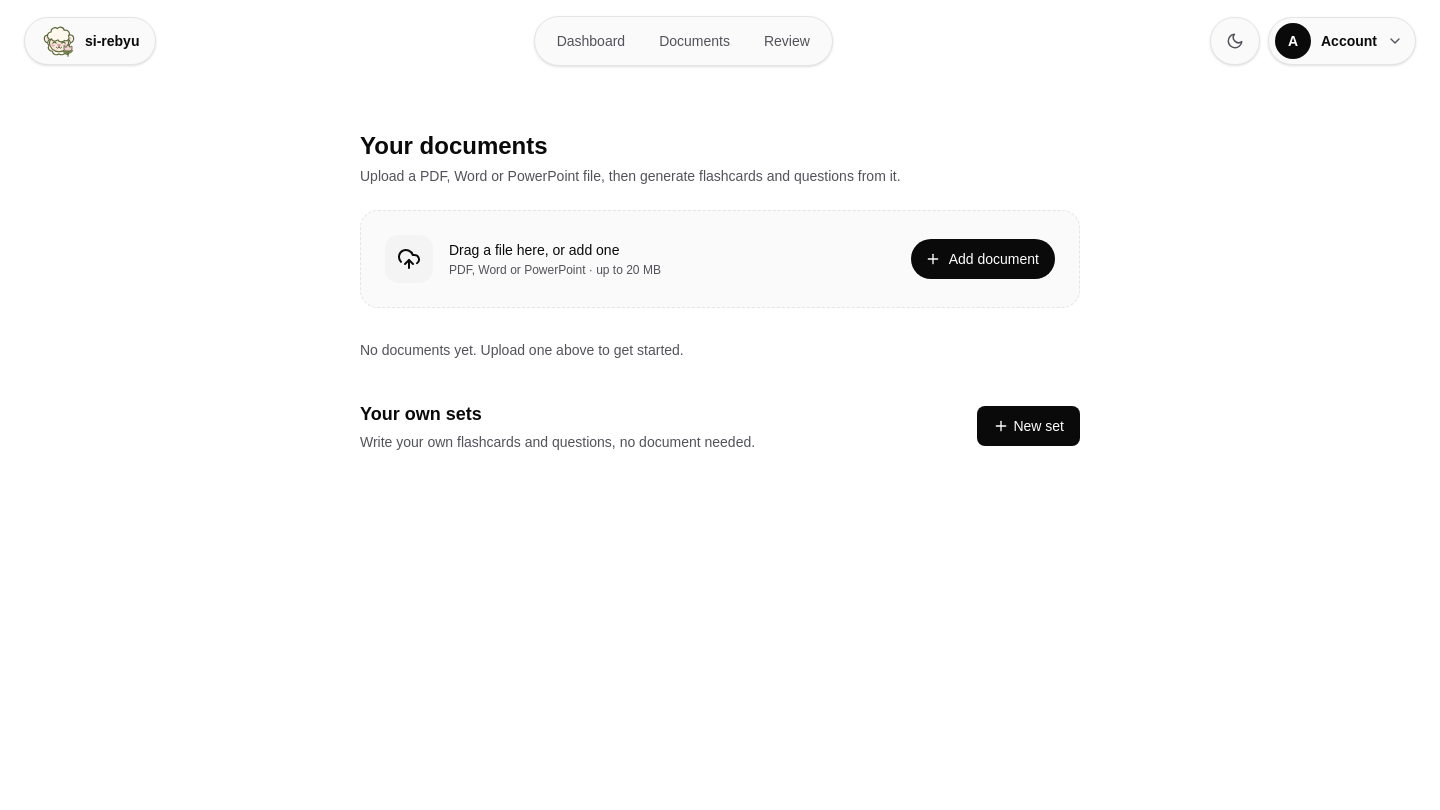
Test case: Import from Google Drive › shows the error when Drive fails
This screenshot has width=1440, height=810.
What coordinates should you click on to do the following:
click the button "Add document"
I would click on:
 (983, 259)
Its box is [911,239,1055,279].
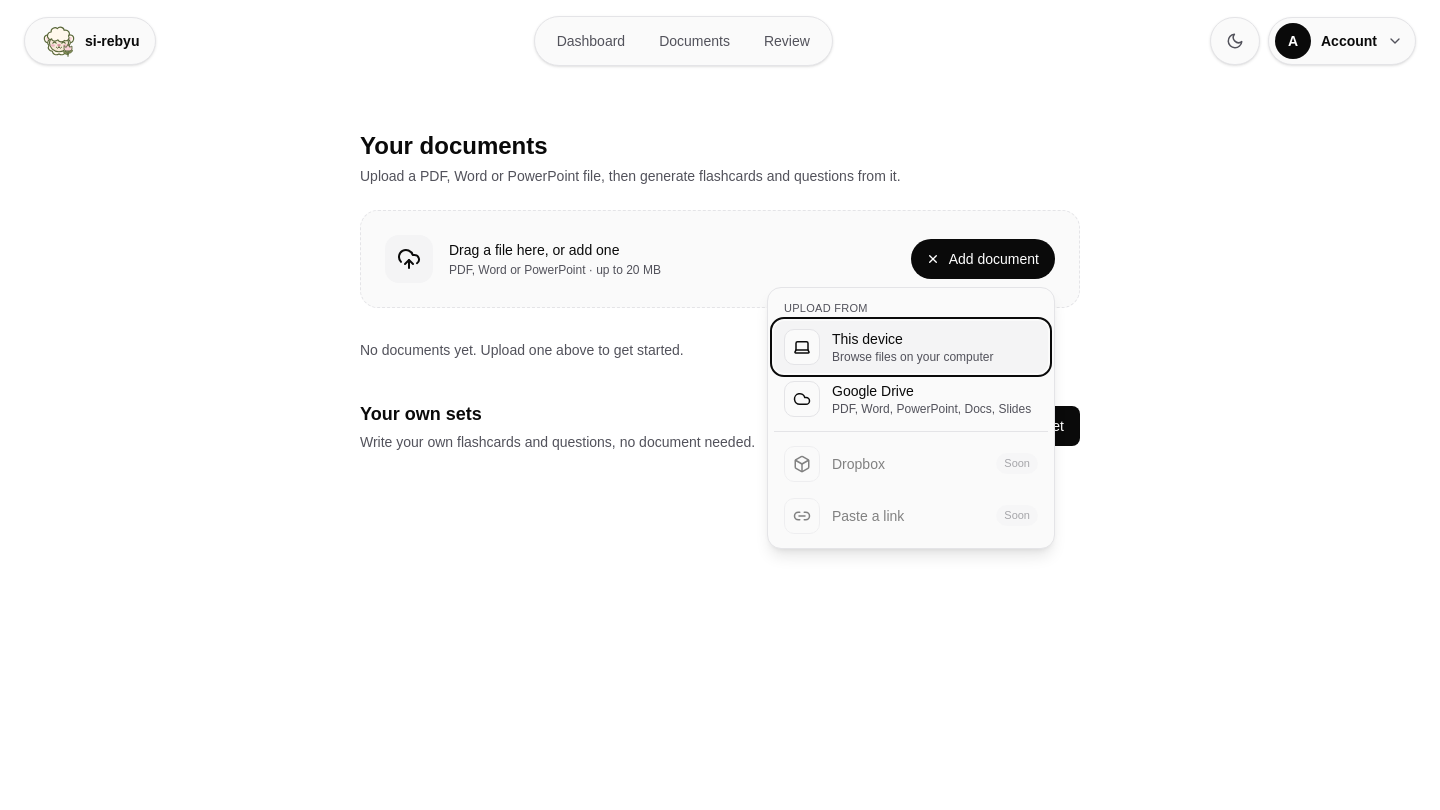
What coordinates should you click on to do the following:
click the menu item "Google Drive PDF, Word, PowerPoint, Docs, Slides"
I would click on:
 (911, 398)
Its box is [774,372,1048,424].
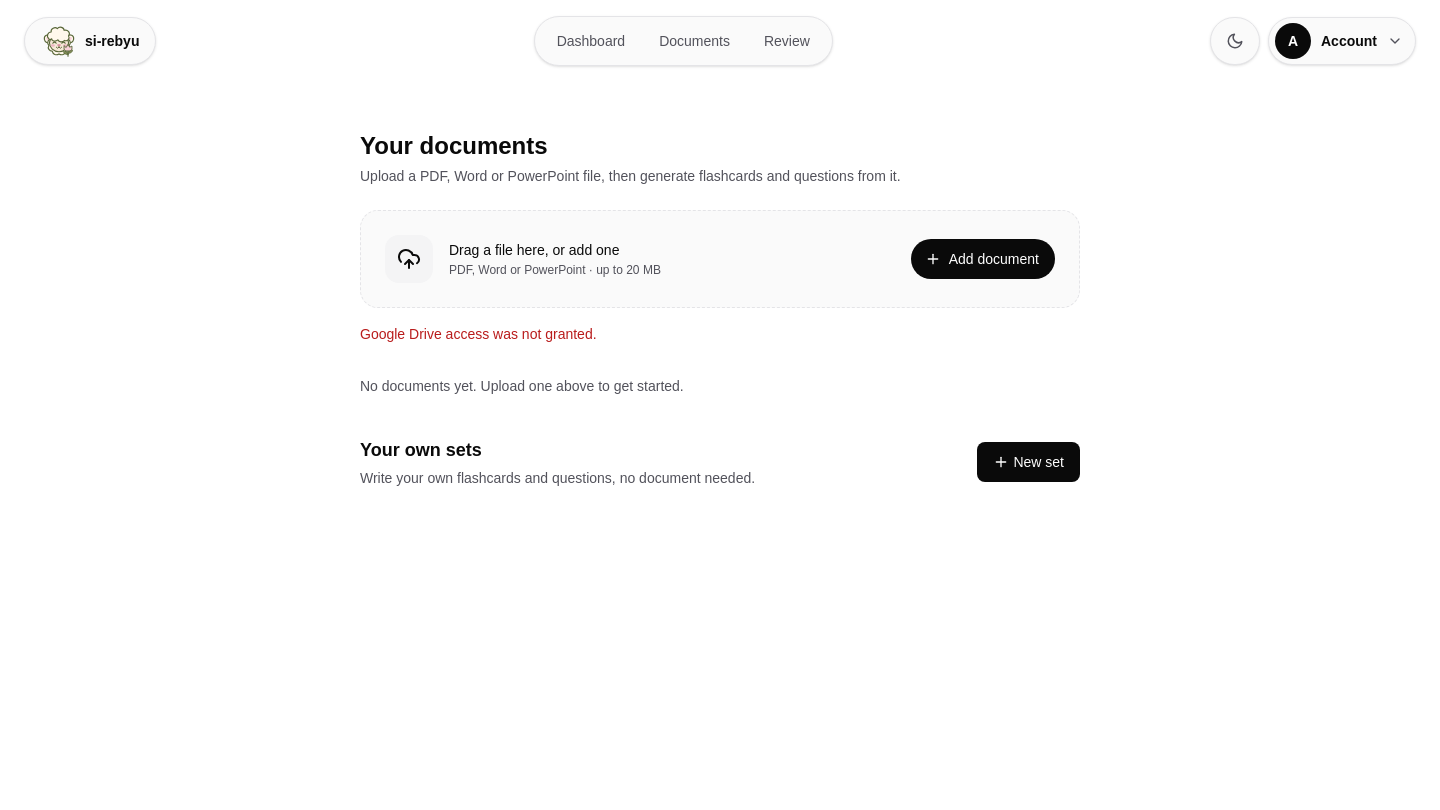
Expected: the text "Google Drive access was not granted." is shown, [360,326,597,342]
